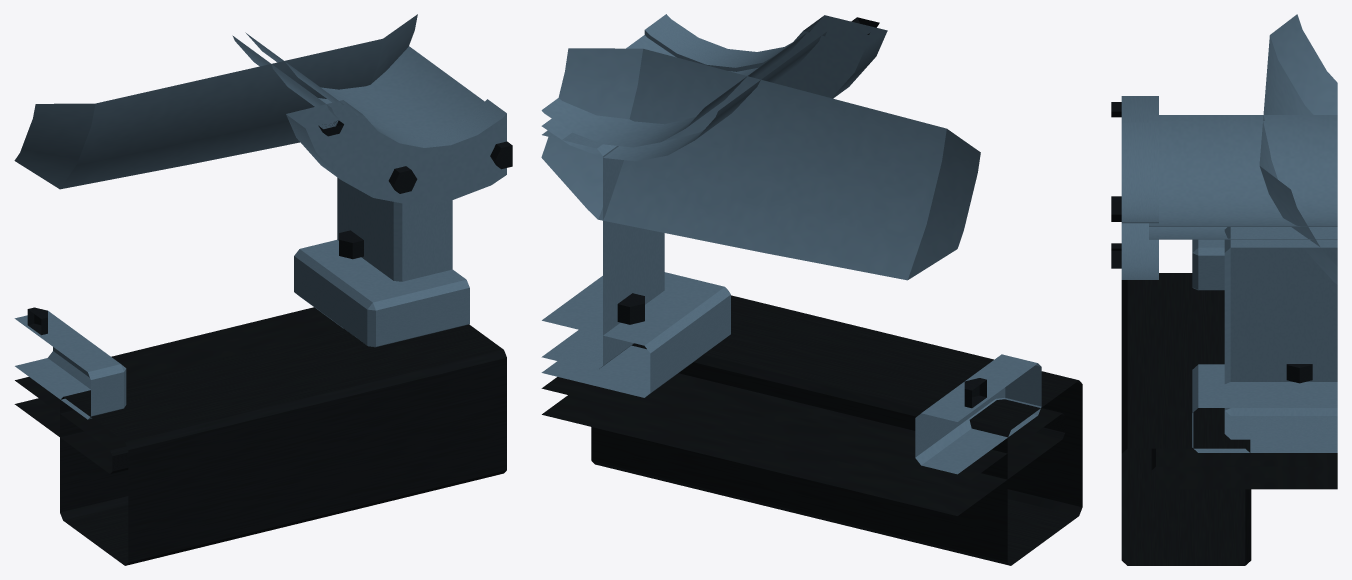
File: cell_19.obj
3 renders of one model, left to right at view 1: azimuth 30°, elevation 25°; view 2: azimuth 150°, elevation 25°; view 3: azimuth 270°, elevation 25°, orthographic. The views are drawn at different scales.
Visible parts, largest first — view 1: cell_19; view 2: cell_19; view 3: cell_19.
Boxes of the visible parts, bbox=[...] form: cell_19: bbox=[14, 14, 512, 565]; cell_19: bbox=[541, 14, 1082, 565]; cell_19: bbox=[1111, 14, 1337, 565].
Bounding box in the file's own units: 1 × 1 × 0.5447.
